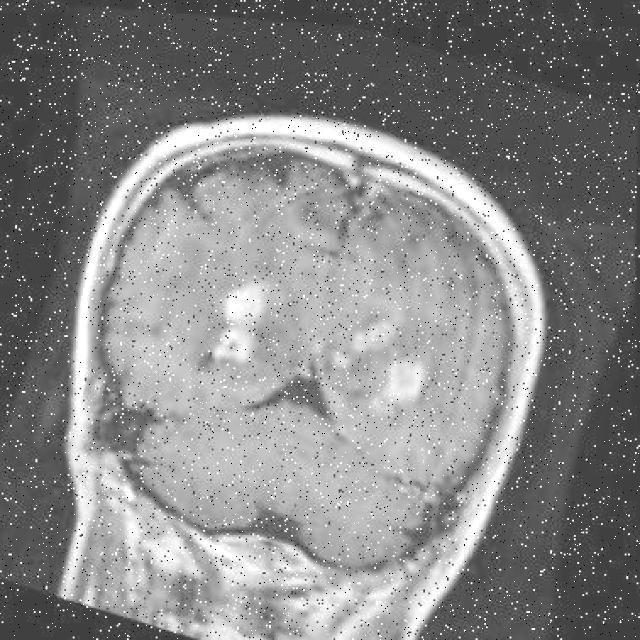EMCI: (298, 289, 468, 451)
MCI: (156, 246, 294, 407)
